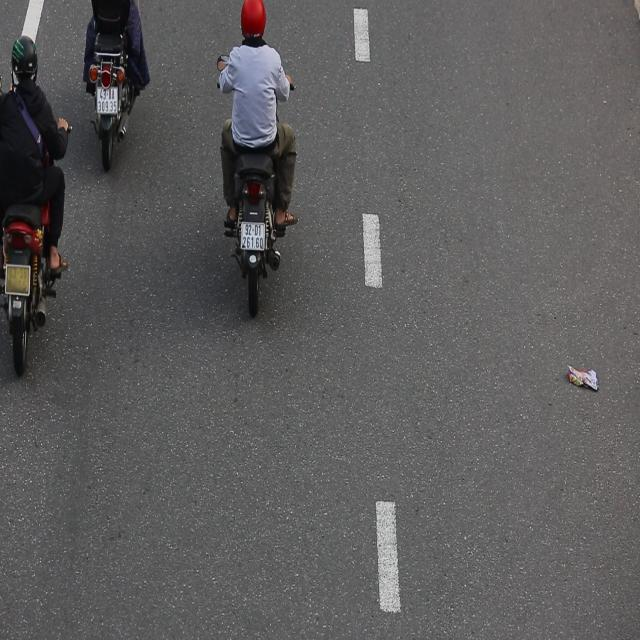motorbike: (216, 1, 303, 325), (0, 34, 73, 386)
